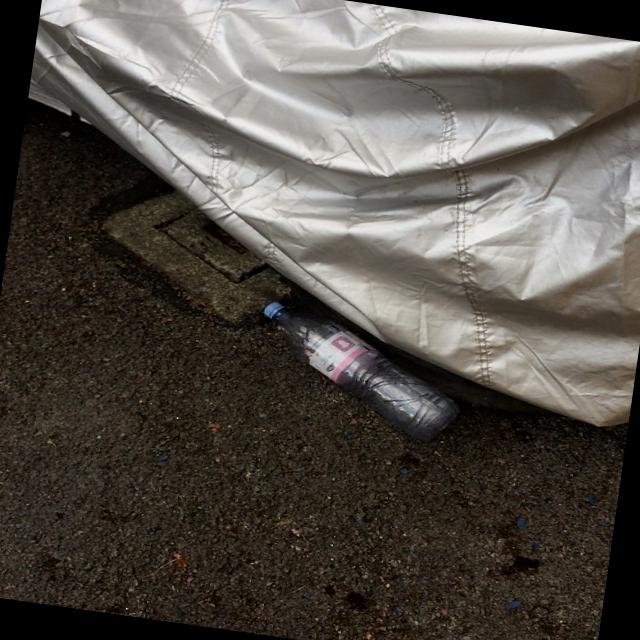Recycle: (246, 298, 468, 446)
